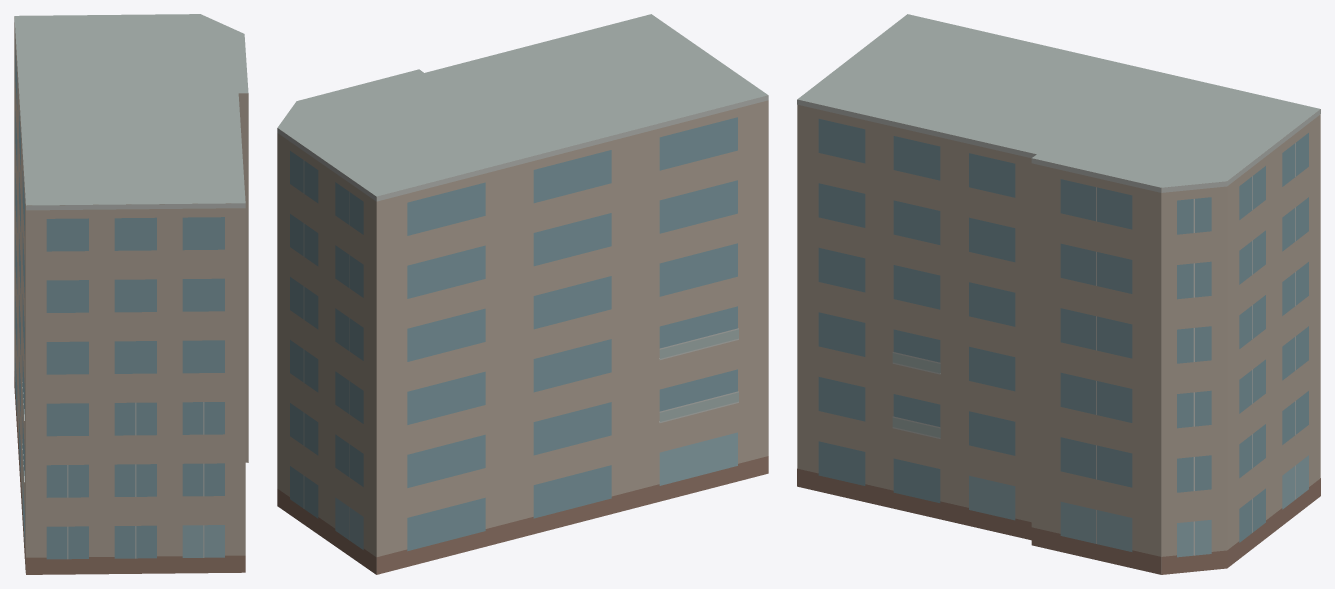
The model's file is survey-upis-32939103.glb.
3 renders of one model, left to right at view 1: azimuth 30°, elevation 25°; view 2: azimuth 150°, elevation 25°; view 3: azimuth 270°, elevation 25°, orthographic. The views are drawn at different scales.
Parts seen in each view (by area): view 1: survey-upis-32939103.tmp; view 2: survey-upis-32939103.tmp; view 3: survey-upis-32939103.tmp.
Boxes of the visible parts, bbox=[...] form: survey-upis-32939103.tmp: bbox=[14, 14, 248, 574]; survey-upis-32939103.tmp: bbox=[277, 14, 768, 574]; survey-upis-32939103.tmp: bbox=[797, 14, 1320, 574].
Size of the model in its own units: 17.63 by 18.3 by 22.44.
